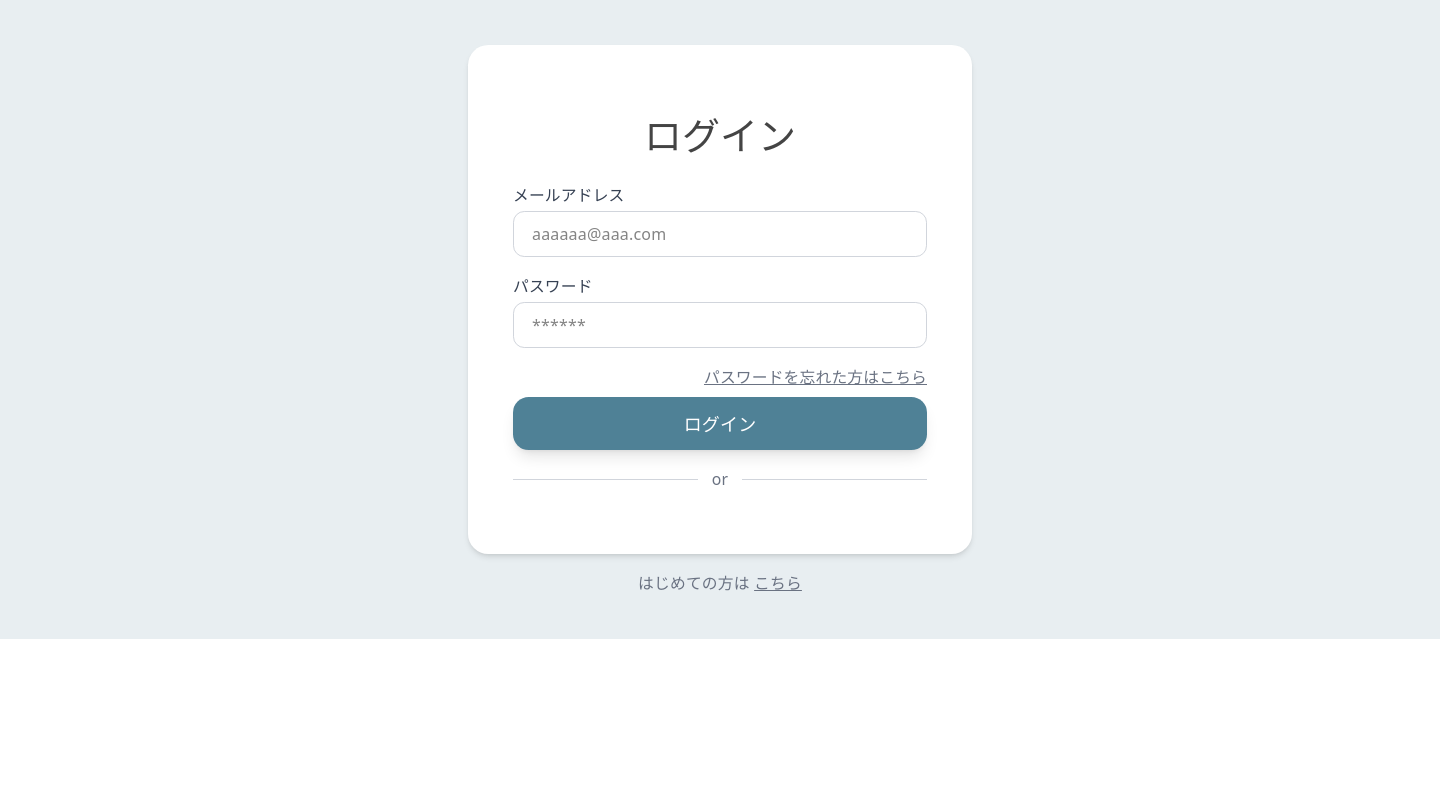
Login › メールアドレスが空の場合エラーメッセージが表示される
The image size is (1440, 810).
Click the button "ログイン".
click(720, 424)  # box [513,397,927,450]
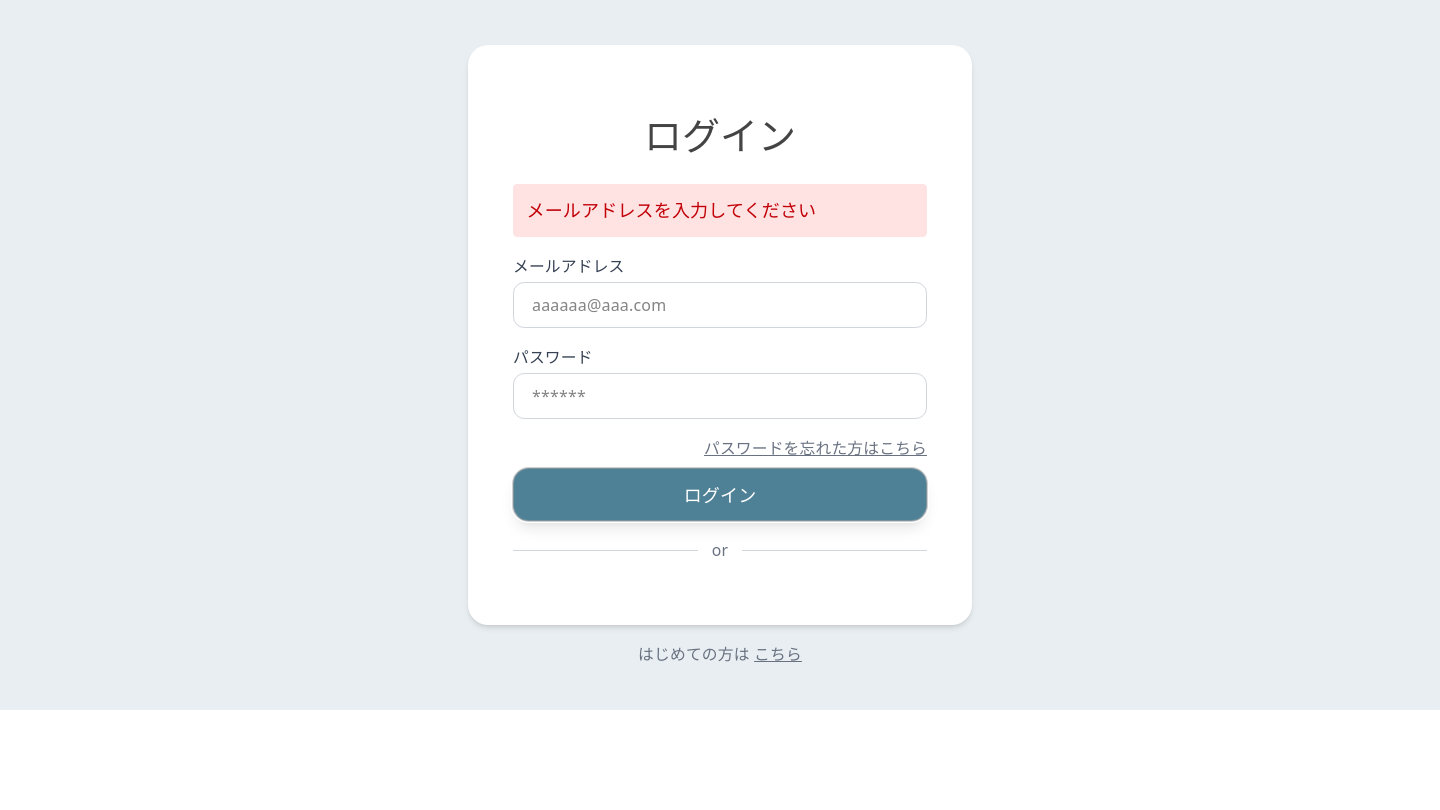
Expected: the button "ログイン" is enabled, [513,468,927,522]
Expected: the text "メールアドレスを入力してください" is shown, [513,184,927,237]
